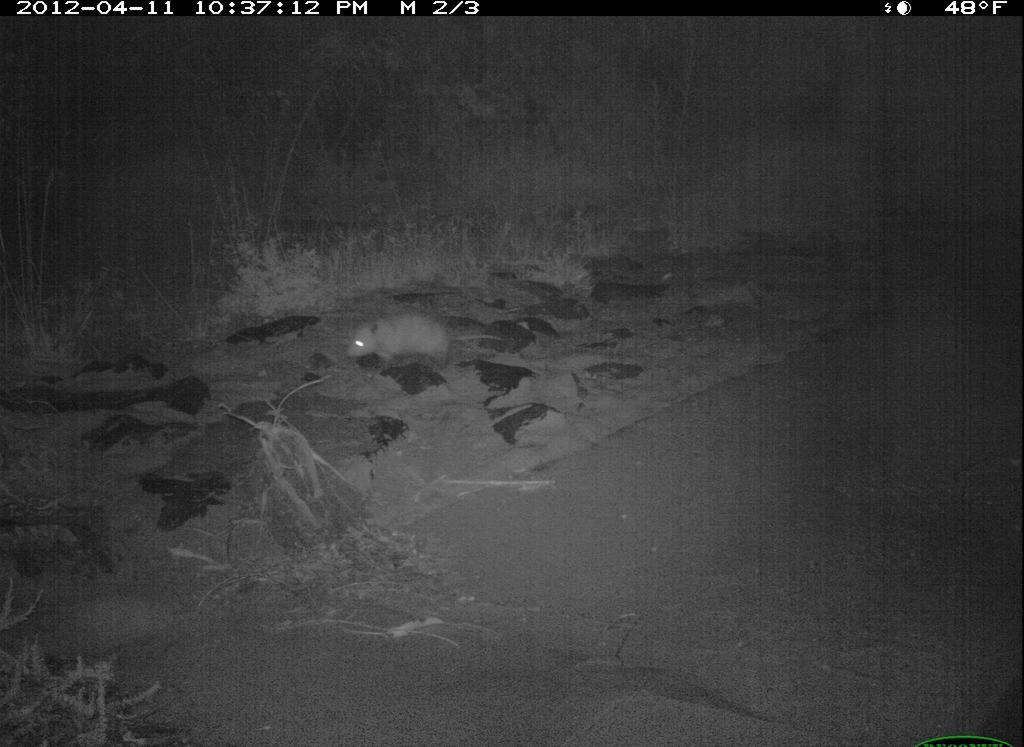opossum: (340, 306, 473, 378)
